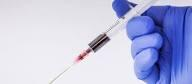Glove: (126, 6, 191, 83)
Syringe: (49, 0, 157, 83)
